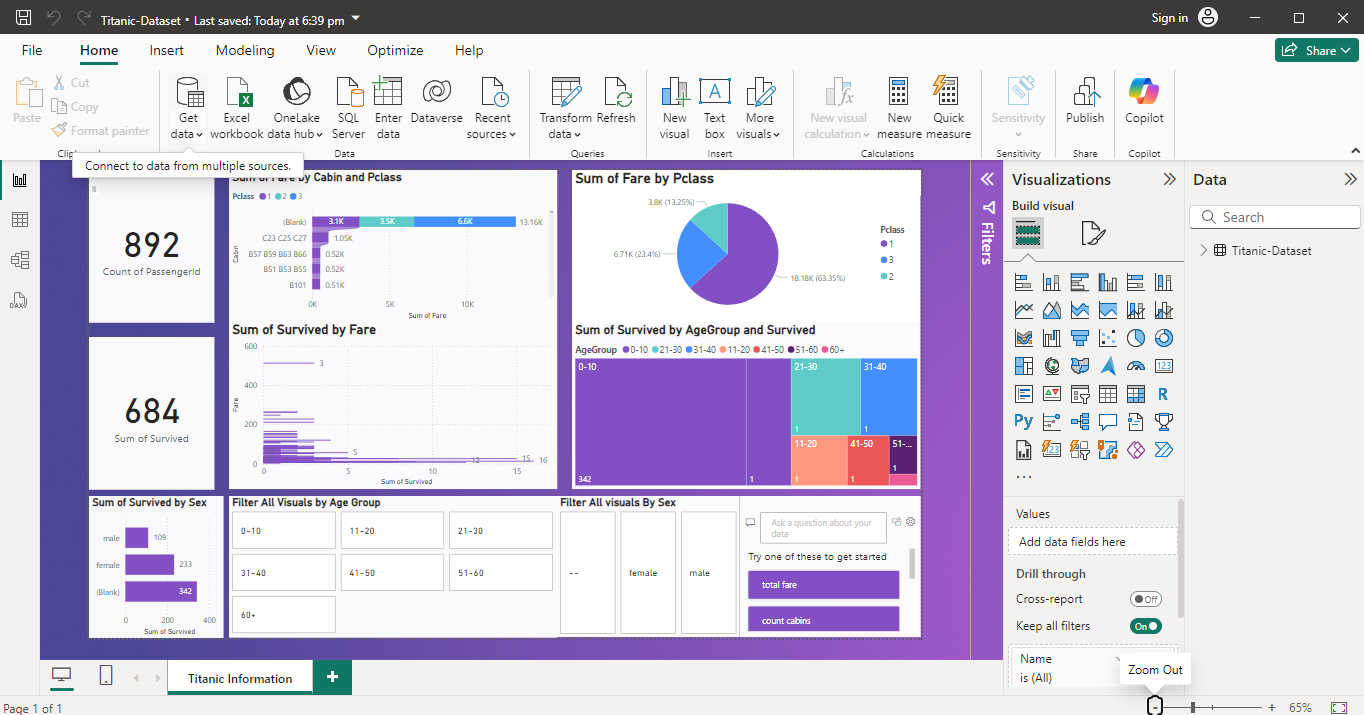

Layout of this report page (visuals, bound fields, positions):
{"tool":"powerbi","page":{"name":"Titanic Information","canvas":[1280,720],"ordinal":0},"visuals":[{"type":"card","fields":{"Values":["CountNonNull(Titanic-Dataset.PassengerId)"]},"box":[0,0,193.2,235.2],"z":0},{"type":"card","fields":{"Values":["Sum(Titanic-Dataset.Survived)"]},"box":[0,257.5,193,235],"z":1000},{"type":"clusteredBarChart","fields":{"Y":["Sum(Titanic-Dataset.Survived)"],"Category":["Titanic-Dataset.Sex Hierarchy.Sex"]},"box":[0,501.7,206.9,219],"z":2000},{"type":"actionButton","box":[1179.3,0,100,39.7],"z":3000},{"type":"clusteredBarChart","fields":{"Category":["Titanic-Dataset.Fare"],"Y":["Sum(Titanic-Dataset.Survived)"]},"box":[215.5,234.5,505.2,256.9],"z":4000},{"type":"barChart","fields":{"Y":["Sum(Titanic-Dataset.Fare)"],"Category":["Titanic-Dataset.Cabin"],"Series":["Titanic-Dataset.Pclass"]},"box":[215.5,0,505.2,234.5],"z":5000},{"type":"pieChart","fields":{"Category":["Titanic-Dataset.Pclass"],"Y":["Sum(Titanic-Dataset.Fare)"]},"box":[743.1,0,536.2,234.5],"z":6000},{"type":"treemap","fields":{"Group":["Titanic-Dataset.AgeGroup"],"Values":["Sum(Titanic-Dataset.Survived)"],"Details":["Titanic-Dataset.Survived"]},"box":[743.1,234.5,536.2,256.9],"z":7000},{"type":"advancedSlicerVisual","title":"Filter All Visuals by Age Group","fields":{"Values":["Titanic-Dataset.AgeGroup"]},"box":[216,502,505,218],"z":8000},{"type":"advancedSlicerVisual","title":"Filter All visuals By Sex","fields":{"Values":["Titanic-Dataset.Sex"]},"box":[720.7,501.7,281,217.2],"z":9000},{"type":"textbox","box":[0,20.7,15.5,19],"z":10000},{"type":"qnaVisual","box":[1001.7,501.7,277.6,217.2],"z":11000}]}

Visuals, with their boxes on the page's 1280x720 design canvas (x1, y1, x2, y2). These are canvas units, not pixel positions in the 1364x715 screenshot, which may show the page scaled, cropped or inside an application window:
card - CountNonNull(Titanic-Dataset.PassengerId): box=[0, 0, 193, 235]
card - Sum(Titanic-Dataset.Survived): box=[0, 258, 193, 492]
clusteredBarChart - Sum(Titanic-Dataset.Survived) x Titanic-Dataset.Sex Hierarchy.Sex: box=[0, 502, 207, 721]
actionButton: box=[1179, 0, 1279, 40]
clusteredBarChart - Titanic-Dataset.Fare x Sum(Titanic-Dataset.Survived): box=[216, 234, 721, 491]
barChart - Sum(Titanic-Dataset.Fare) x Titanic-Dataset.Cabin: box=[216, 0, 721, 234]
pieChart - Titanic-Dataset.Pclass x Sum(Titanic-Dataset.Fare): box=[743, 0, 1279, 234]
treemap - Titanic-Dataset.AgeGroup x Sum(Titanic-Dataset.Survived): box=[743, 234, 1279, 491]
"Filter All Visuals by Age Group" advancedSlicerVisual: box=[216, 502, 721, 720]
"Filter All visuals By Sex" advancedSlicerVisual: box=[721, 502, 1002, 719]
textbox: box=[0, 21, 16, 40]
qnaVisual: box=[1002, 502, 1279, 719]
